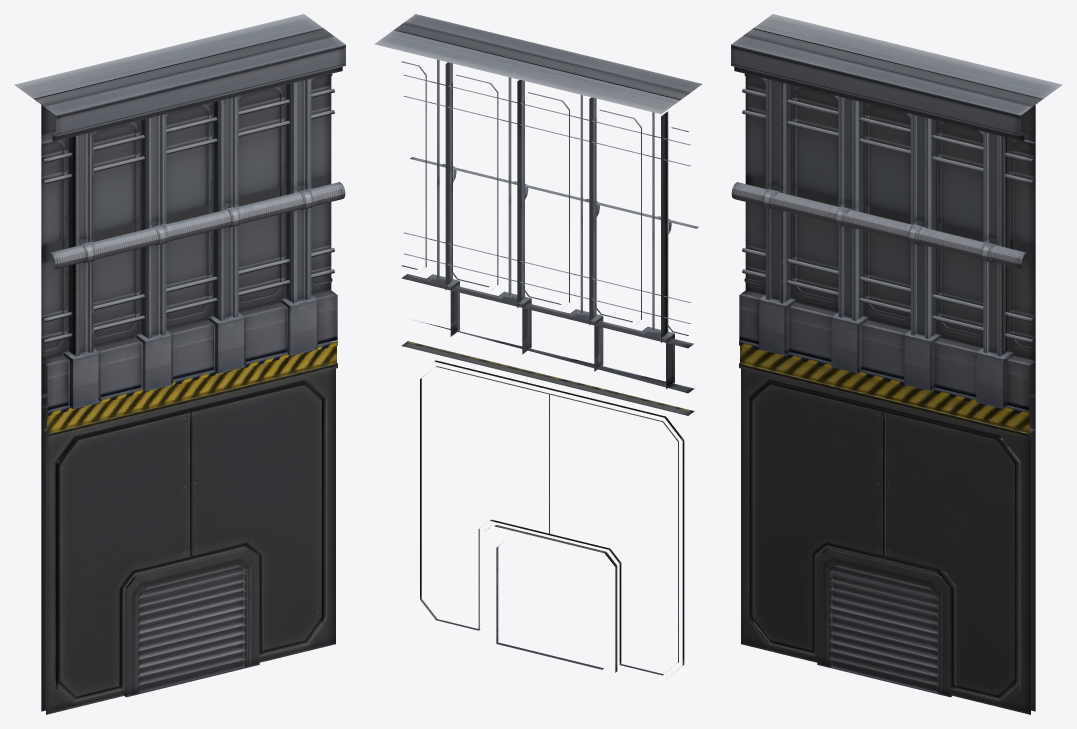
Rendered from kit_wall.glb.
3 views of the same model, side by side, from view 1: azimuth 30°, elevation 25°; view 2: azimuth 150°, elevation 25°; view 3: azimuth 330°, elevation 25° (orthographic).
Visible parts, largest first — view 1: kit_wall_vent.001; view 2: kit_wall_vent.001; view 3: kit_wall_vent.001.
Boxes of the visible parts, x1,y1,x2,y2 form: kit_wall_vent.001: [14, 14, 345, 714]; kit_wall_vent.001: [375, 14, 702, 675]; kit_wall_vent.001: [731, 14, 1062, 714].
Size of the model in its own units: 4 by 8 by 1.
Materials: 4 (4 with a texture image).
